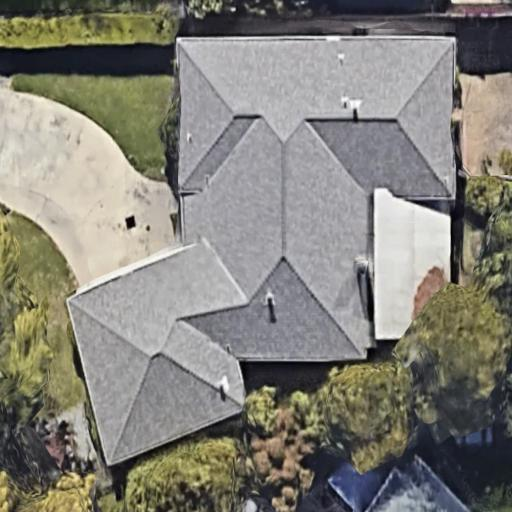Slope-Roof: (67, 38, 455, 466)
